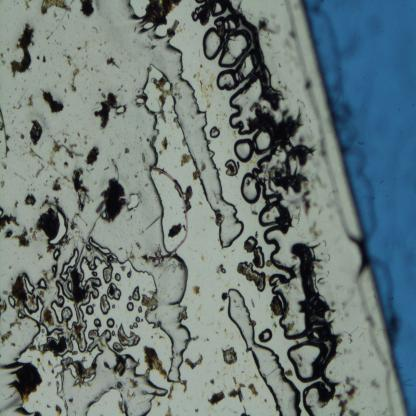Air bubble: (145, 27, 244, 248), (226, 287, 302, 416), (59, 328, 168, 416), (132, 258, 192, 384), (268, 269, 307, 340), (229, 78, 262, 135), (263, 226, 295, 278), (216, 51, 258, 90), (78, 255, 114, 298), (288, 341, 326, 381), (51, 280, 79, 332), (303, 376, 336, 416), (217, 30, 251, 68), (86, 385, 126, 416), (258, 191, 290, 228), (236, 260, 268, 293), (47, 210, 68, 246), (202, 27, 222, 61), (240, 171, 260, 204), (60, 249, 78, 282), (23, 296, 44, 324), (117, 323, 141, 347), (233, 138, 254, 163), (253, 129, 271, 156), (89, 236, 112, 255), (127, 0, 150, 18), (210, 0, 227, 17), (222, 346, 238, 364), (107, 282, 121, 302), (224, 160, 239, 178), (127, 192, 141, 211), (191, 4, 204, 22), (258, 328, 273, 343), (24, 276, 35, 295), (100, 294, 110, 314), (258, 245, 266, 269), (209, 125, 221, 139), (67, 363, 77, 378), (38, 276, 48, 290), (52, 247, 61, 262), (84, 373, 96, 384), (116, 103, 127, 115), (132, 285, 140, 301), (247, 235, 258, 246), (113, 341, 123, 353), (142, 21, 155, 30), (8, 295, 16, 309), (85, 305, 94, 316), (107, 318, 115, 329), (126, 302, 134, 311), (93, 318, 102, 326), (67, 280, 73, 292), (114, 272, 121, 282), (90, 271, 98, 278), (52, 264, 57, 274), (74, 378, 80, 386), (17, 310, 22, 319), (134, 316, 140, 323), (86, 244, 91, 251), (133, 322, 138, 329), (138, 306, 142, 314), (102, 212, 106, 220), (112, 330, 116, 337), (127, 272, 131, 278), (130, 325, 134, 330), (113, 304, 116, 309)
Background material: (292, 245, 343, 364), (249, 28, 282, 112), (270, 134, 314, 196), (250, 102, 306, 140), (98, 157, 127, 223), (6, 360, 44, 403), (10, 22, 36, 80), (143, 0, 186, 29), (193, 63, 216, 110), (92, 92, 118, 131), (71, 166, 93, 212), (48, 132, 83, 160), (142, 0, 178, 26), (142, 345, 168, 380), (35, 208, 60, 239), (9, 274, 29, 307), (40, 88, 64, 114), (73, 359, 96, 386), (154, 87, 170, 125), (140, 287, 160, 315), (39, 338, 68, 357), (254, 16, 280, 35), (0, 109, 10, 158), (40, 0, 72, 15), (110, 353, 129, 378), (0, 208, 20, 230), (28, 120, 44, 146), (228, 382, 246, 404), (13, 226, 31, 247), (42, 194, 62, 212), (269, 294, 284, 318), (334, 392, 349, 416), (184, 352, 203, 370), (344, 375, 357, 401), (302, 188, 314, 215), (84, 145, 99, 166), (207, 390, 225, 406), (68, 68, 80, 92), (80, 0, 96, 18), (72, 322, 83, 348), (42, 307, 56, 327), (166, 223, 186, 237), (14, 406, 42, 416), (309, 220, 322, 241), (69, 211, 82, 231), (41, 268, 57, 284), (150, 75, 167, 89), (0, 329, 12, 348), (58, 233, 73, 248), (186, 184, 194, 212), (106, 56, 120, 70), (179, 153, 192, 168), (133, 94, 148, 107), (125, 245, 136, 262), (23, 144, 36, 158), (215, 366, 228, 380), (24, 193, 37, 207), (63, 54, 76, 68), (158, 137, 168, 155), (53, 176, 63, 192), (34, 164, 45, 178), (46, 156, 57, 170), (369, 378, 380, 392), (167, 382, 175, 401), (0, 296, 7, 317), (29, 226, 38, 242), (248, 383, 258, 397), (27, 293, 36, 308), (10, 318, 21, 330), (240, 404, 251, 416), (180, 306, 188, 322), (36, 358, 45, 372), (215, 264, 226, 275), (140, 254, 152, 264), (117, 399, 125, 414), (47, 360, 55, 375), (77, 40, 88, 50), (127, 378, 138, 388), (114, 380, 124, 391), (303, 78, 312, 90), (180, 380, 188, 393), (28, 342, 38, 352), (126, 389, 136, 399), (245, 160, 255, 170), (27, 94, 34, 108), (55, 404, 63, 416), (192, 285, 200, 297), (0, 53, 7, 66), (103, 360, 111, 371), (24, 0, 32, 11), (66, 336, 72, 350), (173, 117, 180, 129), (46, 244, 55, 253), (285, 369, 294, 378), (13, 102, 23, 110), (5, 229, 13, 239), (117, 84, 127, 92), (220, 291, 228, 301), (152, 320, 162, 328), (250, 205, 258, 215), (98, 339, 106, 349), (165, 405, 172, 416), (349, 408, 358, 416), (346, 331, 352, 343), (83, 134, 89, 145), (189, 336, 200, 342), (218, 305, 225, 314), (13, 200, 19, 210), (272, 321, 277, 333), (253, 372, 259, 382), (194, 168, 199, 180), (94, 4, 100, 14), (200, 161, 206, 171), (155, 396, 160, 408), (232, 376, 238, 386), (150, 43, 157, 51), (91, 26, 99, 33), (141, 153, 146, 164), (70, 350, 79, 356), (197, 303, 202, 313), (225, 281, 231, 289), (38, 253, 44, 261), (0, 181, 6, 189), (1, 162, 7, 170), (266, 259, 272, 267), (151, 134, 157, 142), (207, 215, 215, 221), (138, 228, 144, 235), (227, 147, 233, 154), (120, 265, 126, 272), (159, 334, 166, 340), (224, 328, 228, 338), (25, 188, 35, 192), (136, 242, 141, 250), (140, 28, 148, 33), (116, 152, 121, 160), (251, 298, 255, 308), (42, 56, 47, 64), (68, 396, 73, 404), (134, 171, 139, 179), (62, 161, 68, 167), (214, 330, 220, 336), (236, 161, 240, 170), (20, 133, 25, 140), (83, 64, 88, 71), (103, 166, 110, 171), (57, 71, 61, 79), (133, 25, 137, 33), (182, 139, 186, 147), (230, 332, 234, 340), (223, 254, 228, 260), (46, 403, 51, 409), (118, 246, 124, 251), (94, 69, 100, 74), (198, 200, 203, 206), (200, 255, 204, 262), (255, 231, 259, 238), (11, 342, 16, 347), (194, 408, 199, 413), (63, 48, 68, 53), (53, 83, 58, 88), (218, 166, 222, 172), (264, 398, 268, 404), (191, 114, 195, 120), (201, 145, 204, 153), (150, 334, 154, 340), (47, 382, 51, 387), (220, 141, 224, 146), (36, 55, 40, 60), (64, 88, 67, 94), (85, 54, 88, 60), (98, 42, 102, 46), (146, 138, 150, 142), (211, 294, 215, 298), (145, 183, 148, 188), (139, 136, 142, 141), (98, 88, 102, 91), (42, 328, 44, 334), (231, 249, 235, 252), (198, 316, 200, 322), (84, 97, 87, 101), (130, 215, 132, 220), (98, 50, 101, 53), (138, 90, 140, 94), (91, 67, 93, 71), (207, 338, 209, 342), (238, 284, 240, 286)
Cellulose filter fibre: (102, 92, 106, 98)
Diatom: (172, 18, 179, 32), (124, 147, 130, 154), (2, 290, 8, 296), (209, 379, 214, 385), (150, 142, 154, 147)
Easylift tab: (299, 0, 416, 416)
Microfibre: (149, 167, 188, 259)
